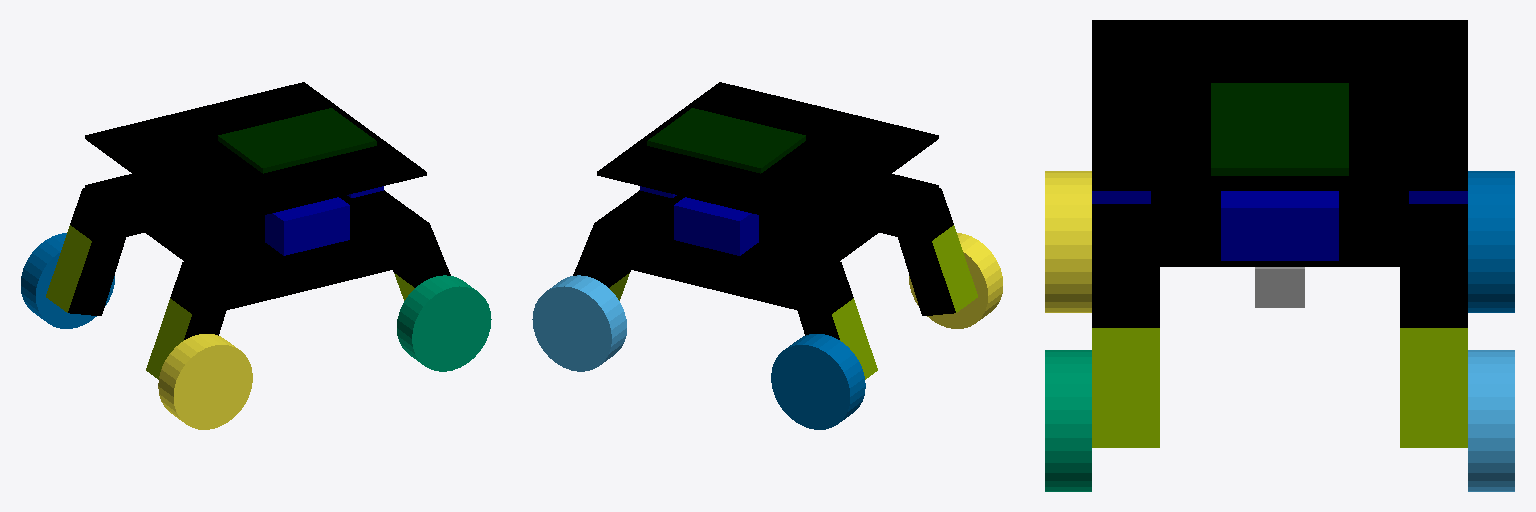
URDF robot description (robob):
<?xml version="1.0" ?>
<robot name="robob">
  <joint name="robob__leftbackwheel_joint" type="fixed">
    <parent link="robob__chassis"/>
    <child link="robob__left_back_wheel"/>
    <origin rpy="0      1.5707  1.5707" xyz="-0.09  0.09  0.03"/>
    <axis xyz="9.00000000e-05   9.00000000e-05   1.00000000e+00"/>
    <limit effort="0" lower="0" upper="0" velocity="0"/>
  </joint>
  <joint name="robob__rightbackwheel_joint" type="fixed">
    <parent link="robob__chassis"/>
    <child link="robob__right_back_wheel"/>
    <origin rpy="0      1.5707  1.5707" xyz="-0.09 -0.09  0.03"/>
    <axis xyz="9.00000000e-05   9.00000000e-05   1.00000000e+00"/>
    <limit effort="0" lower="0" upper="0" velocity="0"/>
  </joint>
  <joint name="robob__leftfrontwheel_joint" type="fixed">
    <parent link="robob__chassis"/>
    <child link="robob__left_front_wheel"/>
    <origin rpy="0      1.5707  1.5707" xyz="0.09  0.09  0.03"/>
    <axis xyz="9.00000000e-05   9.00000000e-05   1.00000000e+00"/>
    <limit effort="0" lower="0" upper="0" velocity="0"/>
  </joint>
  <joint name="robob__rightfrontwheel_joint" type="fixed">
    <parent link="robob__chassis"/>
    <child link="robob__right_front_wheel"/>
    <origin rpy="0      1.5707  1.5707" xyz="0.09 -0.09  0.03"/>
    <axis xyz="9.00000000e-05   9.00000000e-05   1.00000000e+00"/>
    <limit effort="0" lower="0" upper="0" velocity="0"/>
  </joint>
  <link name="robob__chassis">
    <inertial>
      <mass value="0"/>
      <origin rpy="0  0  0" xyz="0    0    0.01"/>
      <inertia ixx="0" ixy="0" ixz="0" iyy="0" iyz="0" izz="0"/>
    </inertial>
    <collision name="robob__collision">
      <origin rpy="0  0  0" xyz="0    0    0.01"/>
      <geometry>
        <mesh filename="package://robot_description/meshes/robob_platform.dae OR robot_description/models/robob/robob_platform.dae" scale="1.0 1.0 1.0"/>
      </geometry>
    </collision>
    <visual name="robob__visual">
      <origin rpy="0  0  0" xyz="0    0    0.01"/>
      <geometry>
        <mesh filename="package://robot_description/meshes/robob_platform.dae OR robot_description/models/robob/robob_platform.dae" scale="1.0 1.0 1.0"/>
      </geometry>
    </visual>
  </link>
  <link name="robob__left_front_wheel">
    <inertial>
      <mass value="0"/>
      <origin rpy="0  0  0" xyz="0  0  0"/>
      <inertia ixx="0" ixy="0" ixz="0" iyy="0" iyz="0" izz="0"/>
    </inertial>
    <collision name="robob__collision">
      <origin rpy="0  0  0" xyz="0  0  0"/>
      <geometry>
        <cylinder length=".02" radius=".03"/>
      </geometry>
    </collision>
    <visual name="robob__visual">
      <origin rpy="0  0  0" xyz="0  0  0"/>
      <geometry>
        <cylinder length=".02" radius=".03"/>
      </geometry>
    </visual>
  </link>
  <link name="robob__right_front_wheel">
    <inertial>
      <mass value="0"/>
      <origin rpy="0  0  0" xyz="0  0  0"/>
      <inertia ixx="0" ixy="0" ixz="0" iyy="0" iyz="0" izz="0"/>
    </inertial>
    <collision name="robob__collision">
      <origin rpy="0  0  0" xyz="0  0  0"/>
      <geometry>
        <cylinder length=".02" radius=".03"/>
      </geometry>
    </collision>
    <visual name="robob__visual">
      <origin rpy="0  0  0" xyz="0  0  0"/>
      <geometry>
        <cylinder length=".02" radius=".03"/>
      </geometry>
    </visual>
  </link>
  <link name="robob__right_back_wheel">
    <inertial>
      <mass value="0"/>
      <origin rpy="0  0  0" xyz="0  0  0"/>
      <inertia ixx="0" ixy="0" ixz="0" iyy="0" iyz="0" izz="0"/>
    </inertial>
    <collision name="robob__collision">
      <origin rpy="0  0  0" xyz="0  0  0"/>
      <geometry>
        <cylinder length=".02" radius=".03"/>
      </geometry>
    </collision>
    <visual name="robob__visual">
      <origin rpy="0  0  0" xyz="0  0  0"/>
      <geometry>
        <cylinder length=".02" radius=".03"/>
      </geometry>
    </visual>
  </link>
  <link name="robob__left_back_wheel">
    <inertial>
      <mass value="0"/>
      <origin rpy="0  0  0" xyz="0  0  0"/>
      <inertia ixx="0" ixy="0" ixz="0" iyy="0" iyz="0" izz="0"/>
    </inertial>
    <collision name="robob__collision">
      <origin rpy="0  0  0" xyz="0  0  0"/>
      <geometry>
        <cylinder length=".02" radius=".03"/>
      </geometry>
    </collision>
    <visual name="robob__visual">
      <origin rpy="0  0  0" xyz="0  0  0"/>
      <geometry>
        <cylinder length=".02" radius=".03"/>
      </geometry>
    </visual>
  </link>
</robot>

--- What the picture shows (computed from the rendered views, not written in the file) ---
Views: 3 orthographic renders of the robot side by side, from view 1: azimuth 30°, elevation 25°; view 2: azimuth 150°, elevation 25°; view 3: azimuth 270°, elevation 25°.
Model robob with 5 links and 4 joints (4 fixed), rooted at robob__chassis, posed all joints at 0.
Links seen in each view (by area): view 1: robob__chassis, robob__right_back_wheel, robob__right_front_wheel, robob__left_back_wheel; view 2: robob__chassis, robob__left_back_wheel, robob__left_front_wheel, robob__right_back_wheel; view 3: robob__chassis, robob__left_front_wheel, robob__right_front_wheel, robob__right_back_wheel, robob__left_back_wheel.
Link boxes in pixels (bbox=[...]): robob__chassis: bbox=[46, 82, 450, 379]; robob__right_back_wheel: bbox=[158, 334, 252, 429]; robob__right_front_wheel: bbox=[397, 275, 491, 371]; robob__left_back_wheel: bbox=[21, 233, 114, 328]; robob__chassis: bbox=[573, 82, 977, 379]; robob__left_back_wheel: bbox=[771, 334, 865, 429]; robob__left_front_wheel: bbox=[532, 275, 626, 371]; robob__right_back_wheel: bbox=[909, 233, 1002, 328]; robob__chassis: bbox=[1092, 20, 1467, 447]; robob__left_front_wheel: bbox=[1468, 350, 1514, 491]; robob__right_front_wheel: bbox=[1045, 350, 1091, 491]; robob__right_back_wheel: bbox=[1045, 171, 1091, 312]; robob__left_back_wheel: bbox=[1468, 171, 1514, 312].
Size in the robot's own frame: 0.24 by 0.2 by 0.1411 metres.
Meshes: 1 distinct files referenced, 1 mesh visuals loaded (1 Collada DAE).